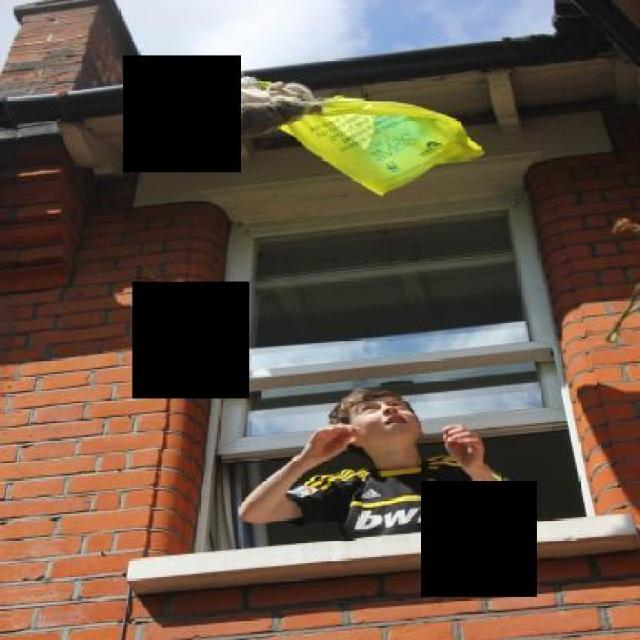plastic bag: (276, 92, 484, 198)
